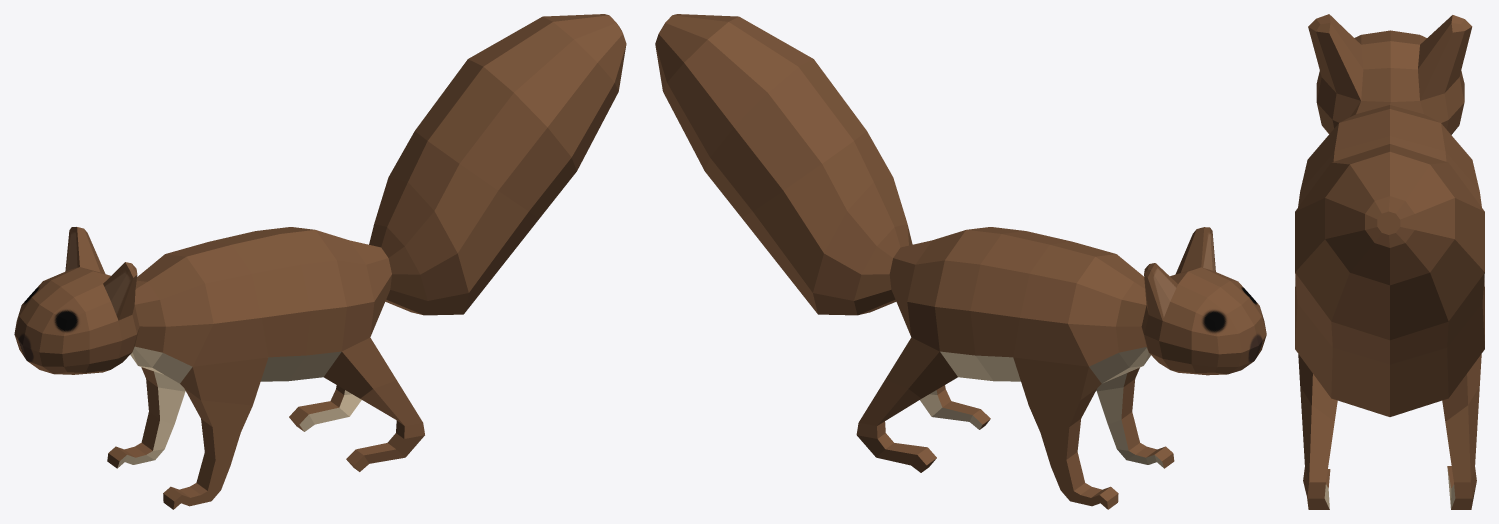
Rendered from Squirrel.fbx.
The picture shows the model from 3 angles, left to right: view 1: azimuth 30°, elevation 25°; view 2: azimuth 150°, elevation 25°; view 3: azimuth 270°, elevation 25°; orthographic projection. The views are drawn at different scales.
Visible parts, largest first — view 1: Squirell; view 2: Squirell; view 3: Squirell.
Boxes of the visible parts, x1,y1,x2,y2 form: Squirell: [14, 14, 626, 509]; Squirell: [655, 14, 1266, 509]; Squirell: [1295, 14, 1484, 509].
Size of the model in its own units: 45.62 by 27.2 by 9.84.
